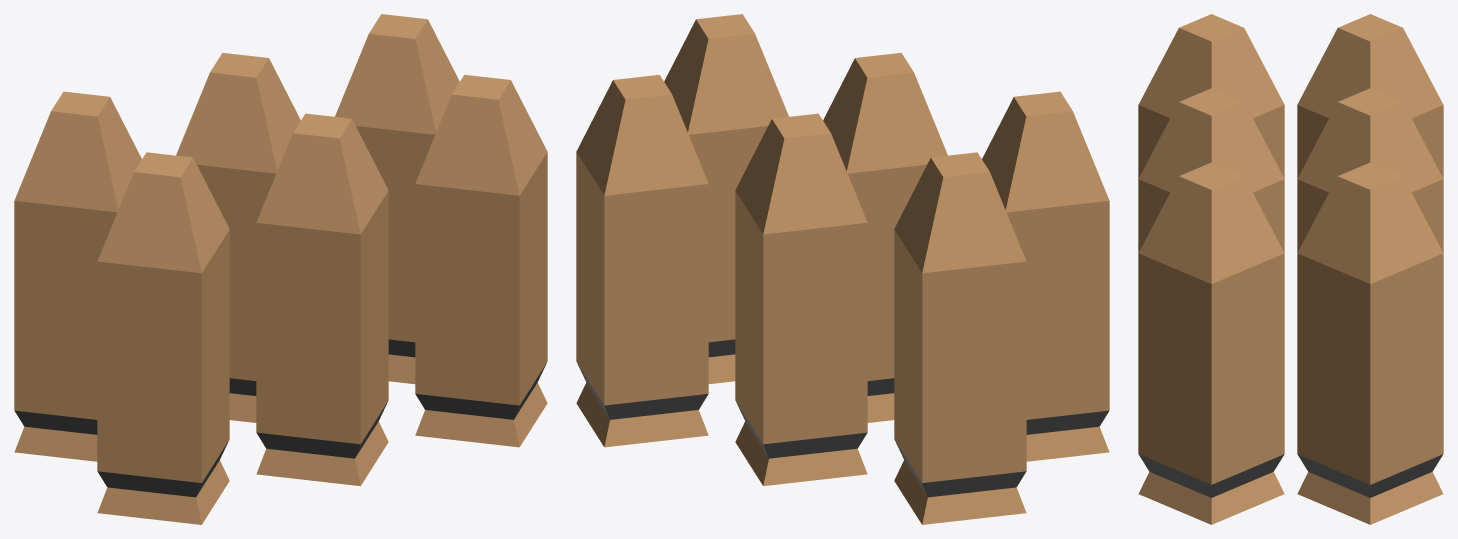
Rendered from Ampick.fbx.
The picture shows the model from 3 angles, left to right: view 1: azimuth 30°, elevation 25°; view 2: azimuth 150°, elevation 25°; view 3: azimuth 270°, elevation 25°; orthographic projection. The views are drawn at different scales.
Visible parts, largest first — view 1: AmmoPickup; view 2: AmmoPickup; view 3: AmmoPickup.
Part boxes in pixels (bbox=[...]): AmmoPickup: bbox=[14, 14, 547, 524]; AmmoPickup: bbox=[576, 14, 1109, 524]; AmmoPickup: bbox=[1138, 14, 1443, 524].
Bounding box in the file's own units: 40.21 × 28.35 × 24.66.
